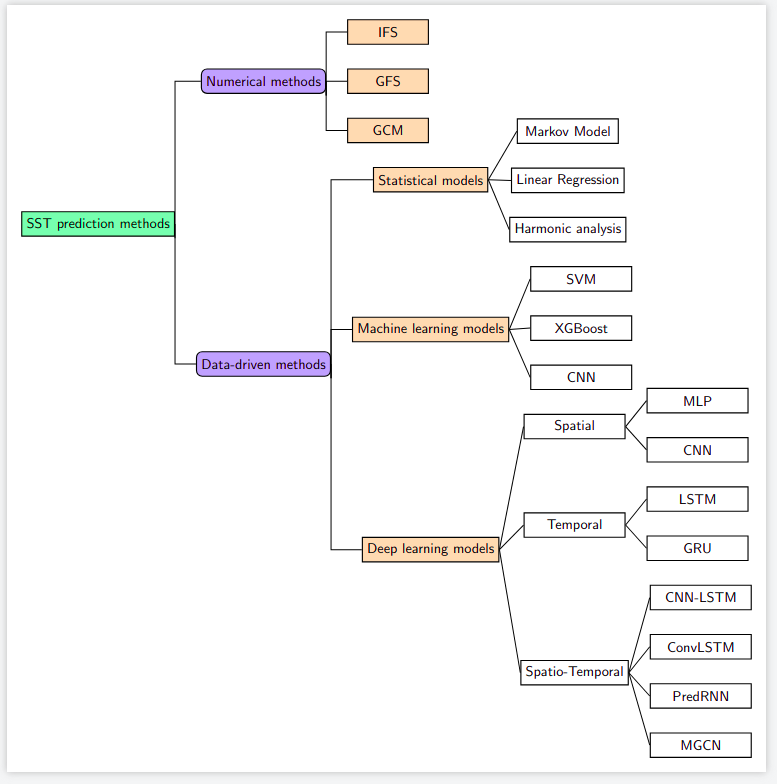bottles: (316, 18, 466, 99)
